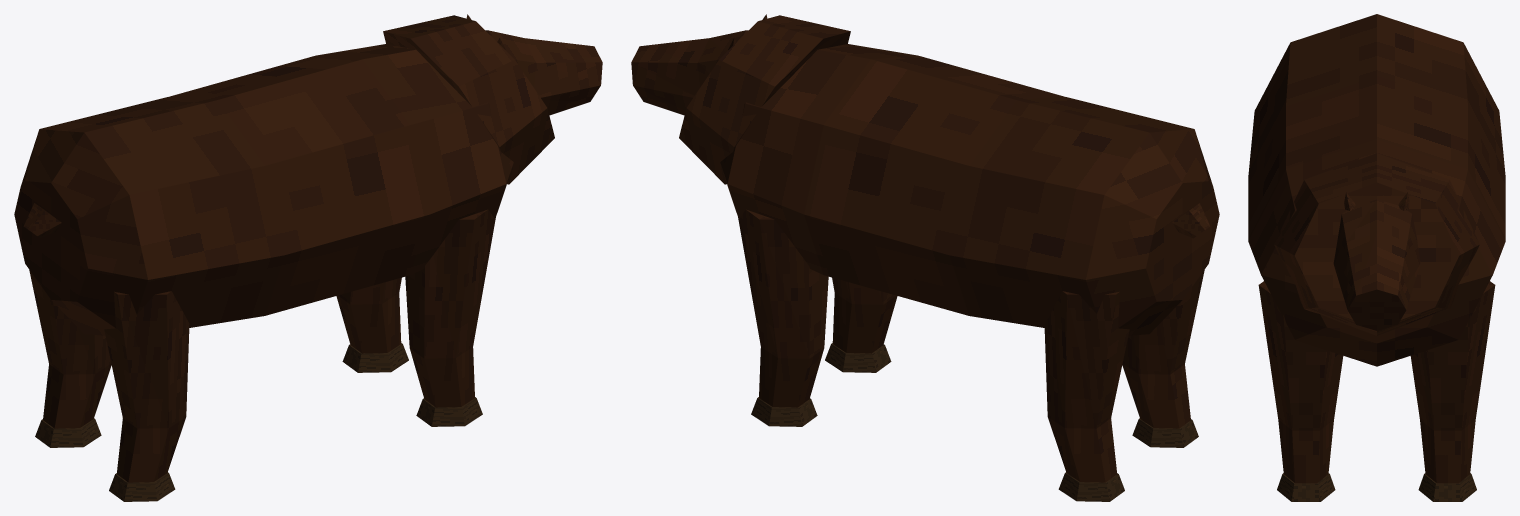
File: oso.glb
3 views of the same model, side by side, from view 1: azimuth 30°, elevation 25°; view 2: azimuth 150°, elevation 25°; view 3: azimuth 270°, elevation 25° (orthographic). The views are drawn at different scales.
Visible parts, largest first — view 1: cuerpo, pata_trasera_der, pata_delantera_der, cuello, pata_trasera_izq, cabeza, pata_delantera_izq, pezuna_delantera_izq, pezuna_trasera_izq, pezuna_delantera_der, pezuna_trasera_der, cola; view 2: cuerpo, pata_trasera_izq, pata_delantera_izq, cuello, pata_trasera_der, cabeza, pata_delantera_der, pezuna_delantera_der, pezuna_trasera_der, pezuna_delantera_izq, pezuna_trasera_izq, cola; view 3: cuerpo, cuello, pata_delantera_izq, pata_delantera_der, cabeza, pezuna_delantera_izq, pezuna_delantera_der.
Boxes of the visible parts, x1,y1,x2,y2 form: cuerpo: [14, 44, 513, 335]; pata_trasera_der: [104, 291, 189, 482]; pata_delantera_der: [405, 209, 495, 407]; cuello: [383, 15, 554, 184]; pata_trasera_izq: [29, 270, 111, 428]; cabeza: [485, 30, 602, 115]; pata_delantera_izq: [336, 277, 401, 353]; pezuna_delantera_izq: [342, 343, 408, 372]; pezuna_trasera_izq: [35, 418, 101, 447]; pezuna_delantera_der: [416, 397, 482, 426]; pezuna_trasera_der: [109, 472, 175, 501]; cola: [23, 203, 61, 238]; cuerpo: [720, 44, 1219, 335]; pata_trasera_izq: [1044, 291, 1129, 482]; pata_delantera_izq: [738, 209, 828, 407]; cuello: [679, 15, 850, 184]; pata_trasera_der: [1122, 270, 1204, 428]; cabeza: [631, 30, 748, 115]; pata_delantera_der: [832, 277, 897, 353]; pezuna_delantera_der: [825, 343, 891, 372]; pezuna_trasera_der: [1132, 418, 1198, 447]; pezuna_delantera_izq: [751, 397, 817, 426]; pezuna_trasera_izq: [1058, 472, 1124, 501]; cola: [1172, 203, 1210, 238]; cuerpo: [1248, 14, 1505, 366]; cuello: [1274, 153, 1479, 335]; pata_delantera_izq: [1410, 281, 1495, 483]; pata_delantera_der: [1258, 281, 1343, 483]; cabeza: [1333, 199, 1420, 330]; pezuna_delantera_izq: [1418, 473, 1476, 501]; pezuna_delantera_der: [1277, 473, 1335, 501].
Size of the model in its own units: 2.2 by 1.3 by 0.9.
Materials: 1 (1 with a texture image).
